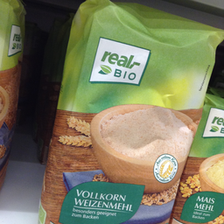flour: (40, 1, 223, 223)
